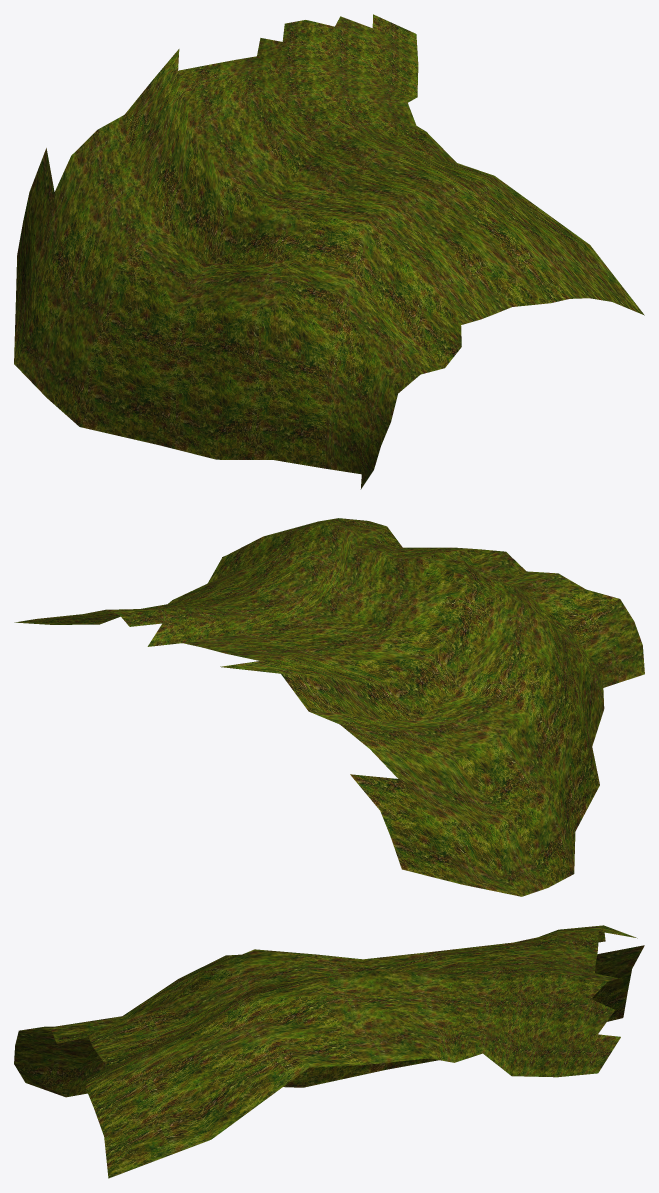
File: TROLLHOLE02_LUKEGROUND07.fbx
3 views of the same model, one above another, from view 1: azimuth 30°, elevation 25°; view 2: azimuth 150°, elevation 25°; view 3: azimuth 270°, elevation 25° (orthographic). The views are drawn at different scales.
Visible parts, largest first — view 1: TROLLHOLE02_LUKEGROUND07; view 2: TROLLHOLE02_LUKEGROUND07; view 3: TROLLHOLE02_LUKEGROUND07.
Boxes of the visible parts, x1,y1,x2,y2 form: TROLLHOLE02_LUKEGROUND07: [14, 14, 644, 489]; TROLLHOLE02_LUKEGROUND07: [14, 518, 644, 896]; TROLLHOLE02_LUKEGROUND07: [14, 925, 644, 1178].
Bounding box in the file's own units: 308319 × 163321 × 365026.
1 material, 1 textured.
